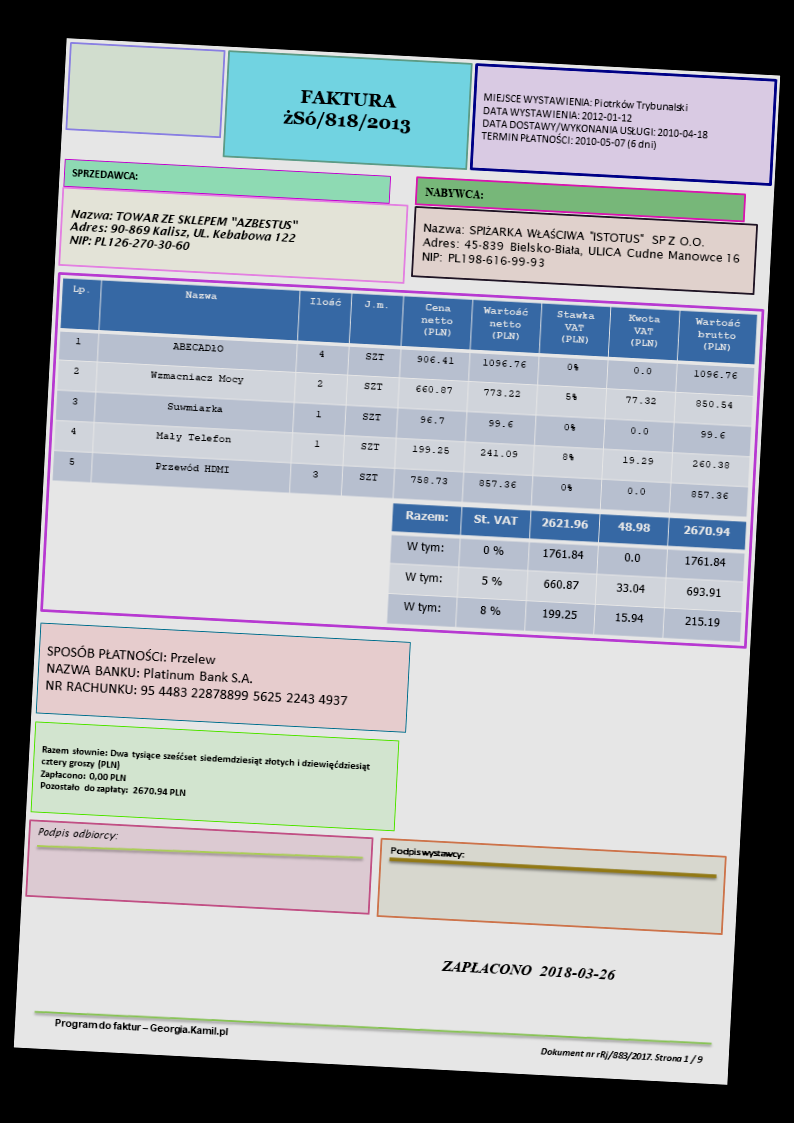Table: (51, 277, 759, 518), (385, 502, 747, 642)
TextBox: (37, 743, 372, 808), (43, 640, 352, 710), (418, 221, 743, 281), (478, 88, 711, 156), (67, 207, 299, 258), (279, 85, 415, 137), (438, 956, 618, 984), (53, 1014, 230, 1039), (539, 1044, 705, 1068), (35, 824, 121, 845), (388, 844, 465, 862), (68, 165, 140, 183), (422, 185, 485, 202)
